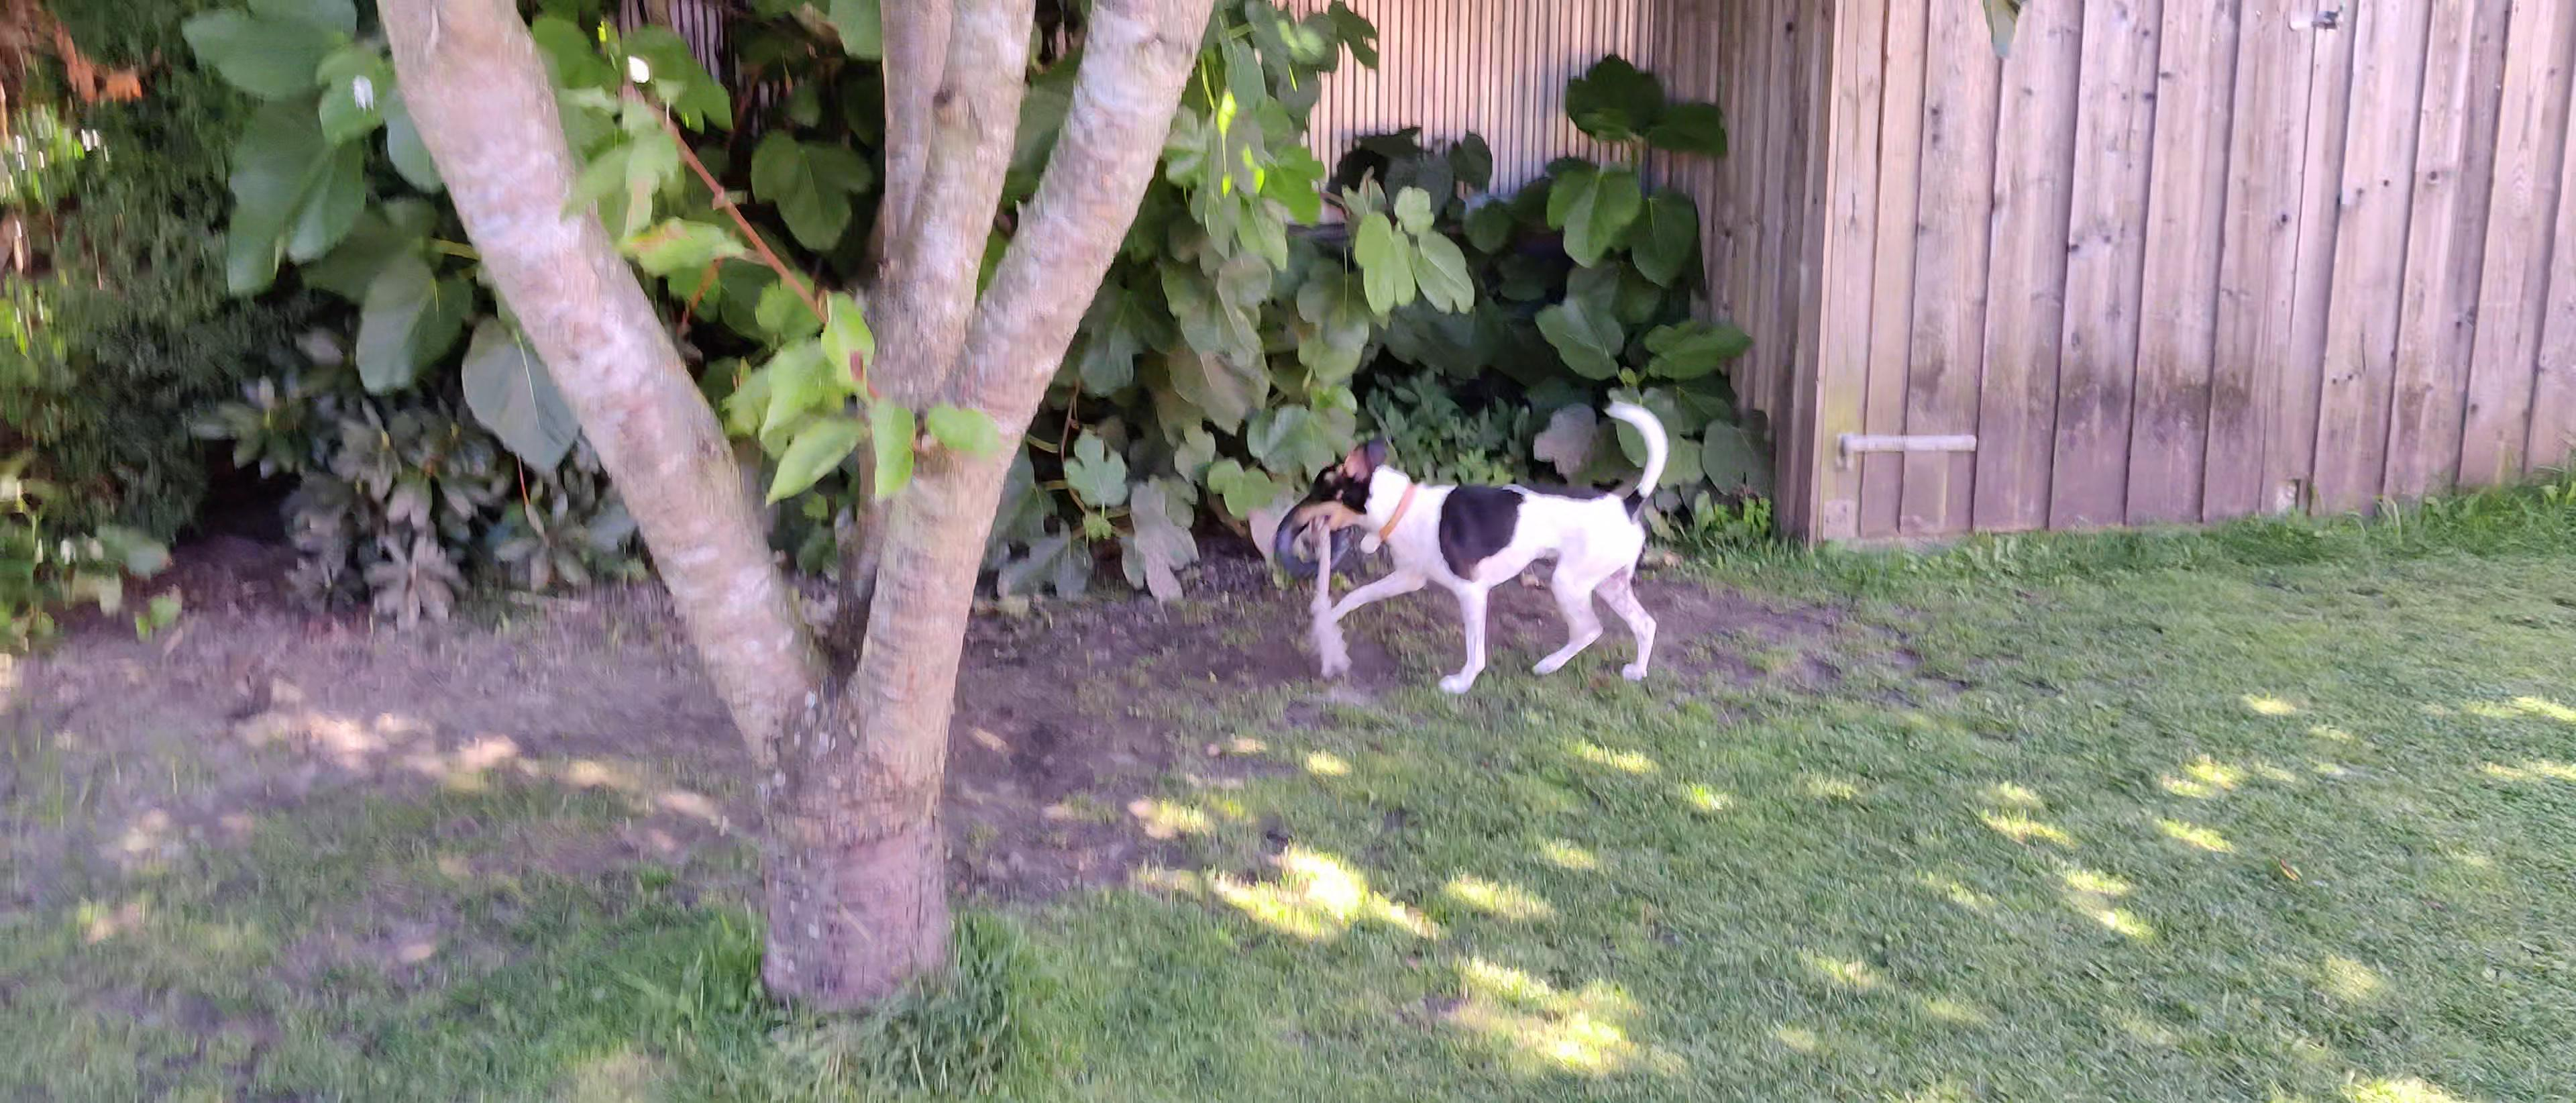Dog: (1285, 396, 1672, 695)
